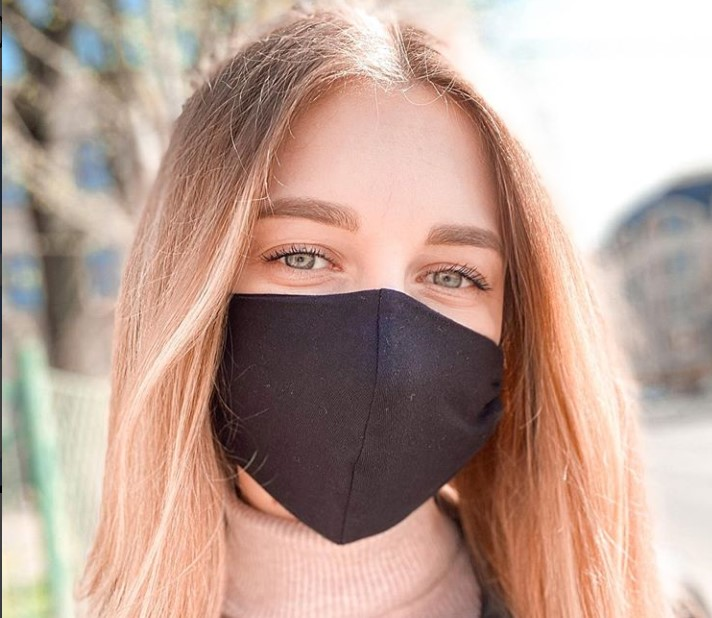face_with_mask: (170, 50, 542, 546)
